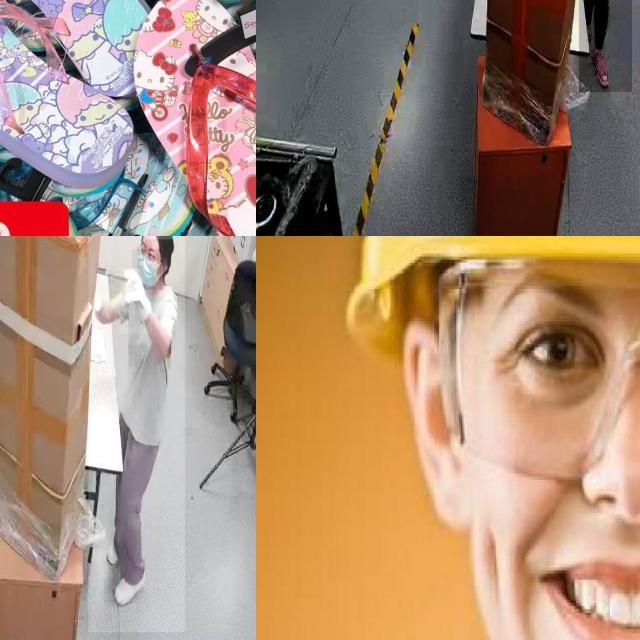No_Ear-Protection: (401, 315, 468, 533)
Sandals: (103, 0, 256, 236), (0, 0, 166, 203)
face_mask: (132, 249, 161, 290)
face_nomask: (468, 426, 640, 640)
glasses: (458, 268, 640, 481)
hand_glove: (120, 268, 152, 334)
person: (88, 236, 185, 633), (579, 0, 632, 93)
shoes: (112, 563, 149, 609), (590, 42, 613, 96), (104, 524, 126, 566)
